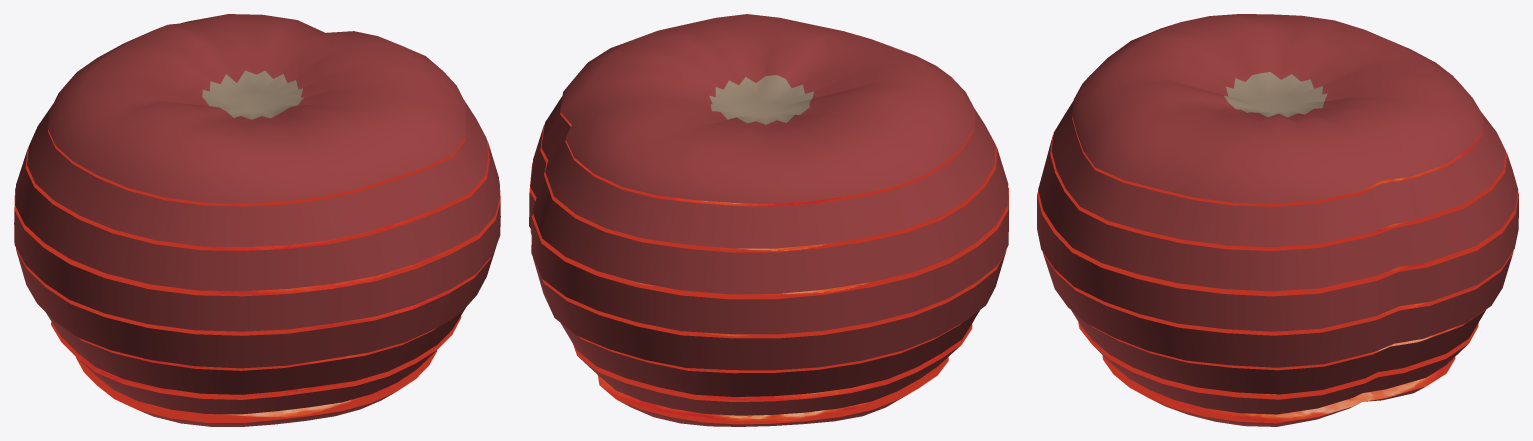
The model's file is tomato_sliced.FBX.
3 renders of one model, left to right at view 1: azimuth 30°, elevation 25°; view 2: azimuth 150°, elevation 25°; view 3: azimuth 270°, elevation 25°, orthographic.
Parts seen in each view (by area): view 1: tomato_s0, tomato_s2, tomato_s1, tomato_s3, tomato_s4, tomato_s5, tomato_s6, tomato_s7; view 2: tomato_s0, tomato_s2, tomato_s1, tomato_s3, tomato_s4, tomato_s5, tomato_s6, tomato_s7; view 3: tomato_s0, tomato_s2, tomato_s1, tomato_s3, tomato_s4, tomato_s5, tomato_s6, tomato_s7.
Part boxes in pixels (bbox=[...]): tomato_s0: bbox=[48, 14, 466, 203]; tomato_s2: bbox=[15, 140, 500, 291]; tomato_s1: bbox=[27, 100, 488, 247]; tomato_s3: bbox=[14, 182, 500, 331]; tomato_s4: bbox=[16, 243, 497, 368]; tomato_s5: bbox=[46, 308, 465, 394]; tomato_s6: bbox=[51, 315, 461, 414]; tomato_s7: bbox=[75, 350, 437, 426]; tomato_s0: bbox=[560, 14, 975, 203]; tomato_s2: bbox=[530, 125, 1008, 294]; tomato_s1: bbox=[541, 96, 995, 248]; tomato_s3: bbox=[529, 163, 1008, 334]; tomato_s4: bbox=[530, 229, 1006, 370]; tomato_s5: bbox=[561, 310, 979, 396]; tomato_s6: bbox=[573, 324, 972, 415]; tomato_s7: bbox=[597, 357, 948, 426]; tomato_s0: bbox=[1072, 14, 1482, 203]; tomato_s2: bbox=[1038, 134, 1518, 291]; tomato_s1: bbox=[1051, 101, 1505, 247]; tomato_s3: bbox=[1037, 191, 1518, 331]; tomato_s4: bbox=[1043, 251, 1513, 367]; tomato_s5: bbox=[1071, 309, 1486, 394]; tomato_s6: bbox=[1078, 322, 1478, 414]; tomato_s7: bbox=[1102, 355, 1455, 426].
Bounding box in the file's own units: 15.85 × 10.61 × 15.64.
Materials: 3 (1 with a texture image).
